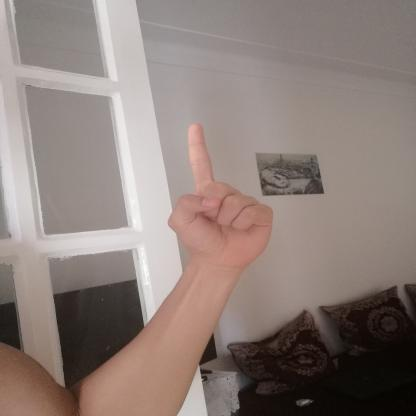BAA: (149, 114, 289, 276)
